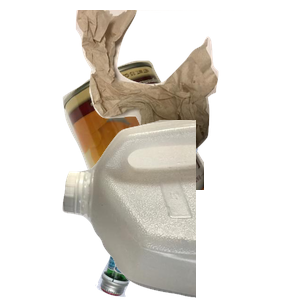glass: (93, 143, 284, 300)
metal: (60, 58, 300, 238)
plastic: (60, 120, 300, 300)
trash: (73, 10, 300, 163)
